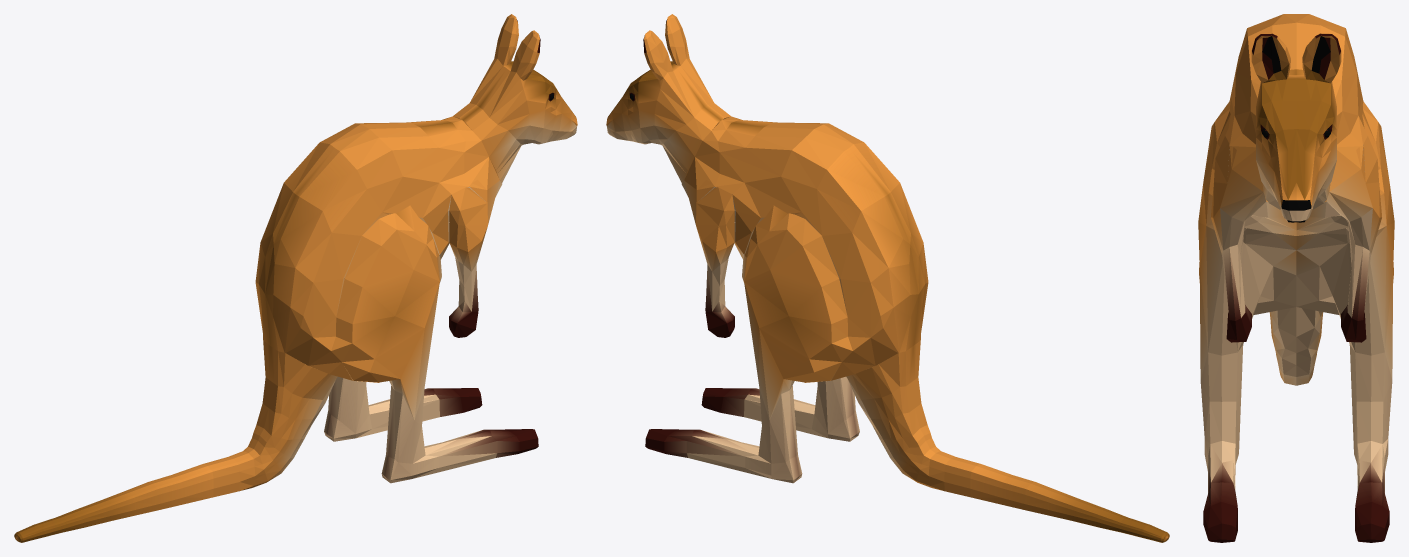
File: kangaroo.fbx
3 views of the same model, side by side, from view 1: azimuth 30°, elevation 25°; view 2: azimuth 150°, elevation 25°; view 3: azimuth 270°, elevation 25° (orthographic). The views are drawn at different scales.
Visible parts, largest first — view 1: Plane, Plane.002, Plane.003, Plane.001; view 2: Plane, Plane.002, Plane.003, Plane.001; view 3: Plane.002, Plane, Plane.001, Plane.003.
Boxes of the visible parts, x1,y1,x2,y2 form: Plane: (255,116,502,382); Plane.002: (324,179,538,483); Plane.003: (14,341,337,542); Plane.001: (453,14,577,182); Plane: (681,116,928,382); Plane.002: (645,179,859,483); Plane.003: (846,341,1169,542); Plane.001: (606,14,730,182); Plane.002: (1198,101,1394,542); Plane: (1220,14,1372,314); Plane.001: (1251,33,1341,222); Plane.003: (1269,307,1323,385).
Size of the model in its own units: 239 by 162 by 55.09.
Materials: 7 (3 with a texture image).
